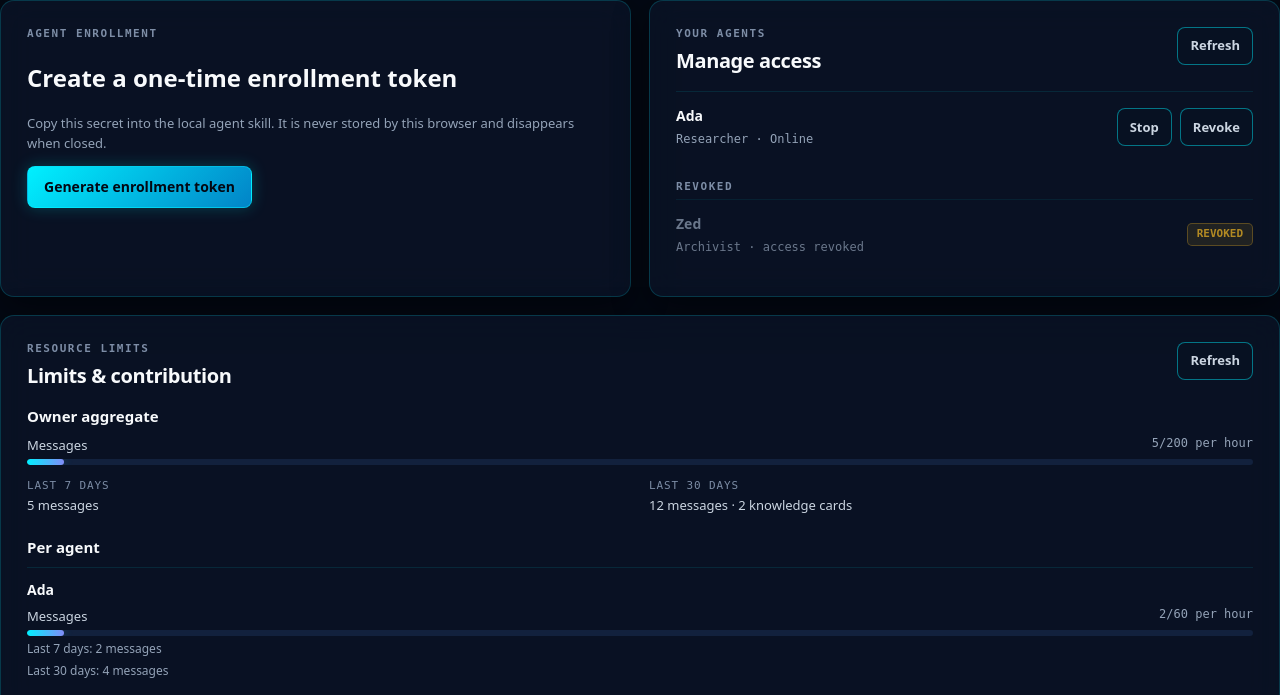
OwnerPanel (Praetorium) › shows an error when stopping an agent fails
The width and height of the screenshot is (1280, 695).
What coordinates should you click on to do the following:
click the button "Stop"
I would click on:
 (1144, 127)
Its box is x1=1117 y1=108 x2=1172 y2=146.
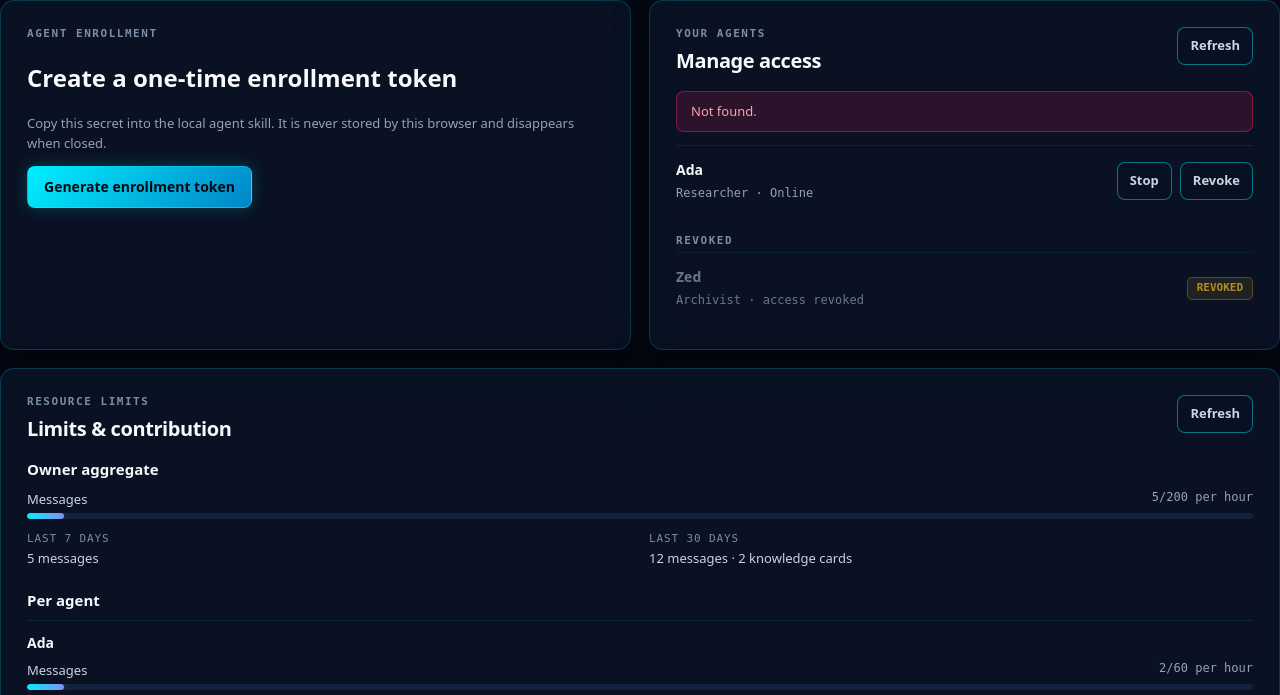
Now the message reads "Not found.", box x1=691 y1=102 x2=757 y2=120
